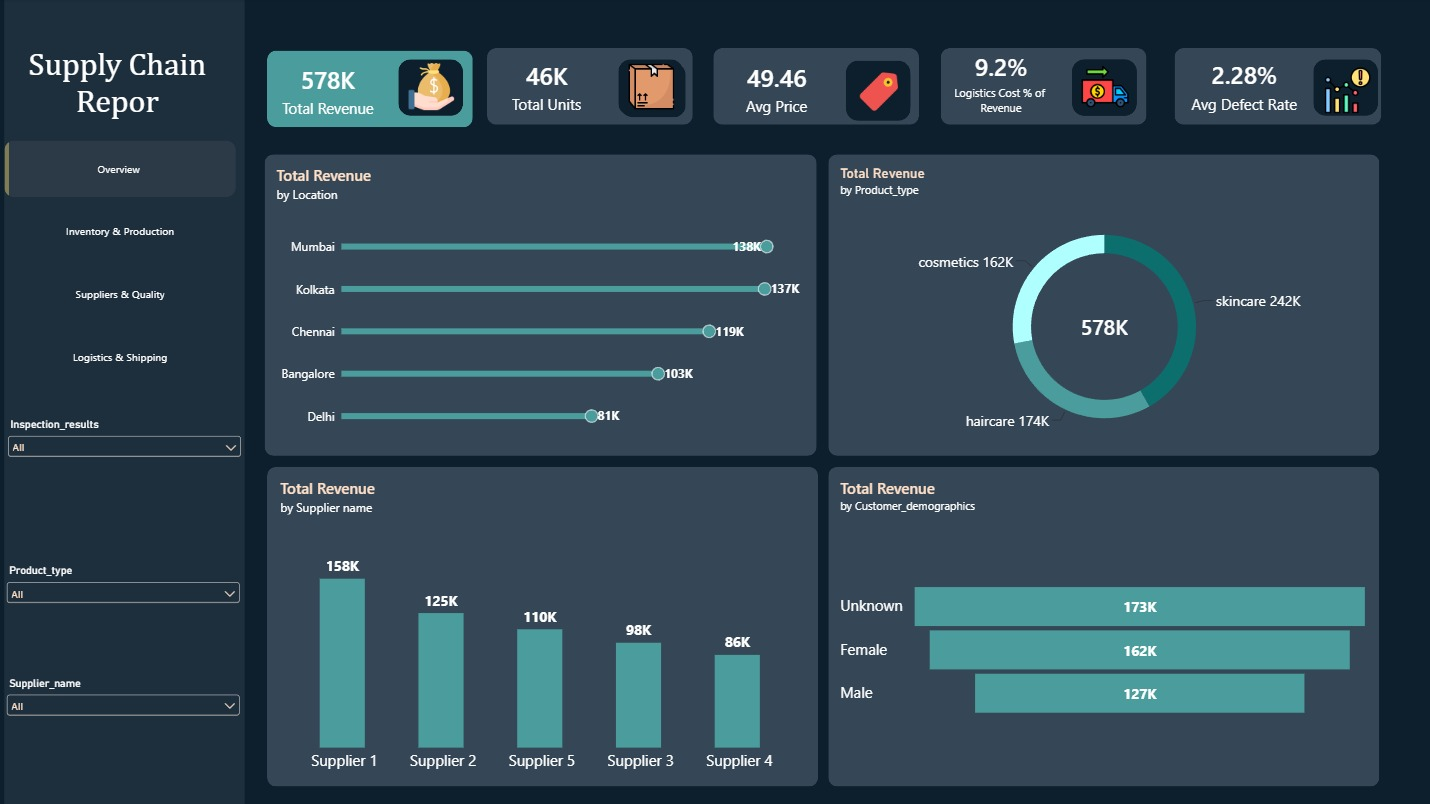

This screenshot's page, from the dashboard's own definition file:
{"tool":"powerbi","page":{"name":"Overview","canvas":[1920,1080],"ordinal":0},"visuals":[{"type":"shape","box":[0,2.9,86.9,75.9],"z":0,"group":"g1"},{"type":"group","id":"g1","title":"Group 1","box":[0,2.9,86.9,75.9],"z":0},{"type":"shape","box":[537.6,81.4,86.9,75.9],"z":0,"group":"g6"},{"type":"shape","box":[833.3,82.8,86.9,75.9],"z":0,"group":"g11"},{"type":"shape","box":[1440.1,82.8,86.9,75.9],"z":0,"group":"g13"},{"type":"shape","box":[1440,82.9,86.9,75.9],"z":0,"group":"g2"},{"type":"group","id":"g2","title":"Group 1","box":[1440,82.9,86.9,75.9],"z":0,"group":"g9"},{"type":"group","id":"g3","title":"Group 1","box":[1764.3,82.9,86.9,75.9],"z":0,"group":"g4"},{"type":"shape","box":[1764.3,82.9,86.9,75.9],"z":0,"group":"g3"},{"type":"group","id":"g4","title":"Group 3","box":[1764.3,82.9,86.9,75.9],"z":0,"group":"g10"},{"type":"group","id":"g5","title":"Group 1","box":[1137.1,84.3,86.9,75.9],"z":0,"group":"g8"},{"type":"shape","box":[1137.1,84.3,86.9,75.9],"z":0,"group":"g5"},{"type":"shape","box":[835.7,87.1,87.1,72.9],"z":0,"group":"g7"},{"type":"shape","box":[1137.4,88,86.9,75.9],"z":0,"group":"g12"},{"type":"shape","box":[10,0,321.4,1080],"z":1000},{"type":"shape","box":[362.2,70.3,275.7,102.9],"z":2000},{"type":"shape","box":[657.1,67.1,275.7,102.9],"z":3000},{"type":"shape","box":[1264.3,67.1,275.7,102.9],"z":4000},{"type":"shape","box":[1577.1,67.1,277.1,102.9],"z":5000},{"type":"shape","box":[960,67.1,275.7,102.9],"z":6000},{"type":"shape","box":[358.3,210,740,404.3],"z":7000},{"type":"shape","box":[1114.3,628.6,738.6,428.6],"z":8000},{"type":"shape","box":[1114.3,210,738.6,404.3],"z":9000},{"type":"shape","box":[361.4,628.6,738.6,428.6],"z":10000},{"type":"textbox","box":[12.9,67.1,295.7,111.4],"z":11000},{"type":"group","id":"g6","title":"Group 1","box":[537.5,81.4,89.3,75.9],"z":12000},{"type":"group","id":"g7","title":"Group 2","box":[835.7,87.1,87.1,72.9],"z":13000},{"type":"group","id":"g8","title":"Group 3","box":[1137.1,84.3,86.9,75.9],"z":14000},{"type":"group","id":"g9","title":"Group 3","box":[1440,82.9,86.9,75.9],"z":15000},{"type":"group","id":"g10","title":"Group 4","box":[1764.3,82.9,86.9,75.9],"z":16000},{"type":"card","fields":{"Values":["Measures (2).Total Revenue"]},"box":[362.9,55.7,160,135.7],"z":17000},{"type":"card","fields":{"Values":["Measures (2).Total Units"]},"box":[657.1,54.3,160,128.6],"z":18000},{"type":"card","fields":{"Values":["Measures (2).Avg Price"]},"box":[960,67.1,170,107.1],"z":19000},{"type":"card","fields":{"Values":["Measures (2).Avg Defect Rate"]},"box":[1577.1,60,187.1,114.3],"z":20000},{"type":"card","fields":{"Values":["Measures (2).Logistics Cost % of Revenue"]},"box":[1251.7,16.7,188.3,173.3],"z":21000},{"type":"donutChart","title":"Total Revenue","fields":{"Category":["Summary_Type.Product_type"],"Y":["Measures (2).Total Revenue"]},"box":[1113.3,210,740,405],"z":22000},{"type":"clusteredBarChart","title":" Total Revenue ","fields":{"Category":["City.Location"],"Y":["Measures (2).blank1","Measures (2).Total Revenue","Measures (2).blank2"]},"box":[358.8,209.2,735,405],"z":23000},{"type":"clusteredColumnChart","title":"Total Revenue ","fields":{"Category":["Fact_table.Supplier_name"],"Y":["Measures (2).Total Revenue"]},"box":[363.3,628.3,733.3,428.3],"z":24000},{"type":"funnel","title":"Total Revenue ","fields":{"Category":["Gender.Customer_demographics"],"Y":["Measures (2).Total Revenue"]},"box":[1113.3,628.3,740,428.3],"z":25000},{"type":"slicer","fields":{"Values":["Status.Inspection_results"]},"box":[10,563.3,321.7,170],"z":26000},{"type":"slicer","fields":{"Values":["Summary_Type.Product_type"]},"box":[8.3,758.3,321.7,170],"z":27000},{"type":"slicer","fields":{"Values":["Fact_table.Supplier_name"]},"box":[8.3,910,321.7,170],"z":28000},{"type":"bookmarkNavigator","box":[10.4,190.2,310.5,329.9],"z":29000},{"type":"group","id":"g11","title":"Group 1","box":[833.2,82.8,89.3,75],"z":30000},{"type":"image","box":[537.5,86,89.3,63.4],"z":30001,"group":"g6"},{"type":"image","box":[833.2,87.4,89.3,63.4],"z":30001,"group":"g11"},{"type":"image","box":[1440,87.4,89.3,63.4],"z":30001,"group":"g13"},{"type":"image","box":[1137.3,92.6,89.3,63.4],"z":30001,"group":"g12"},{"type":"image","box":[1764.7,91.9,89.3,63.4],"z":31000},{"type":"group","id":"g12","title":"Group 1","box":[1137.3,88,89.3,75],"z":32000},{"type":"group","id":"g13","title":"Group 1","box":[1440,82.8,89.3,75],"z":33000}]}

Visuals, with their boxes on the page's 1920x1080 design canvas (x1, y1, x2, y2). These are canvas units, not pixel positions in the 1430x804 screenshot, which may show the page scaled, cropped or inside an application window:
shape: (left=0, top=3, right=87, bottom=79)
"Group 1" group: (left=0, top=3, right=87, bottom=79)
shape: (left=538, top=81, right=624, bottom=157)
shape: (left=833, top=83, right=920, bottom=159)
shape: (left=1440, top=83, right=1527, bottom=159)
shape: (left=1440, top=83, right=1527, bottom=159)
"Group 1" group: (left=1440, top=83, right=1527, bottom=159)
"Group 1" group: (left=1764, top=83, right=1851, bottom=159)
shape: (left=1764, top=83, right=1851, bottom=159)
"Group 3" group: (left=1764, top=83, right=1851, bottom=159)
"Group 1" group: (left=1137, top=84, right=1224, bottom=160)
shape: (left=1137, top=84, right=1224, bottom=160)
shape: (left=836, top=87, right=923, bottom=160)
shape: (left=1137, top=88, right=1224, bottom=164)
shape: (left=10, top=0, right=331, bottom=1080)
shape: (left=362, top=70, right=638, bottom=173)
shape: (left=657, top=67, right=933, bottom=170)
shape: (left=1264, top=67, right=1540, bottom=170)
shape: (left=1577, top=67, right=1854, bottom=170)
shape: (left=960, top=67, right=1236, bottom=170)
shape: (left=358, top=210, right=1098, bottom=614)
shape: (left=1114, top=629, right=1853, bottom=1057)
shape: (left=1114, top=210, right=1853, bottom=614)
shape: (left=361, top=629, right=1100, bottom=1057)
textbox: (left=13, top=67, right=309, bottom=178)
"Group 1" group: (left=538, top=81, right=627, bottom=157)
"Group 2" group: (left=836, top=87, right=923, bottom=160)
"Group 3" group: (left=1137, top=84, right=1224, bottom=160)
"Group 3" group: (left=1440, top=83, right=1527, bottom=159)
"Group 4" group: (left=1764, top=83, right=1851, bottom=159)
card - Measures (2).Total Revenue: (left=363, top=56, right=523, bottom=191)
card - Measures (2).Total Units: (left=657, top=54, right=817, bottom=183)
card - Measures (2).Avg Price: (left=960, top=67, right=1130, bottom=174)
card - Measures (2).Avg Defect Rate: (left=1577, top=60, right=1764, bottom=174)
card - Measures (2).Logistics Cost % of Revenue: (left=1252, top=17, right=1440, bottom=190)
"Total Revenue" donutChart: (left=1113, top=210, right=1853, bottom=615)
" Total Revenue " clusteredBarChart: (left=359, top=209, right=1094, bottom=614)
"Total Revenue " clusteredColumnChart: (left=363, top=628, right=1097, bottom=1057)
"Total Revenue " funnel: (left=1113, top=628, right=1853, bottom=1057)
slicer - Status.Inspection_results: (left=10, top=563, right=332, bottom=733)
slicer - Summary_Type.Product_type: (left=8, top=758, right=330, bottom=928)
slicer - Fact_table.Supplier_name: (left=8, top=910, right=330, bottom=1080)
bookmarkNavigator: (left=10, top=190, right=321, bottom=520)
"Group 1" group: (left=833, top=83, right=922, bottom=158)
image: (left=538, top=86, right=627, bottom=149)
image: (left=833, top=87, right=922, bottom=151)
image: (left=1440, top=87, right=1529, bottom=151)
image: (left=1137, top=93, right=1227, bottom=156)
image: (left=1765, top=92, right=1854, bottom=155)
"Group 1" group: (left=1137, top=88, right=1227, bottom=163)
"Group 1" group: (left=1440, top=83, right=1529, bottom=158)
